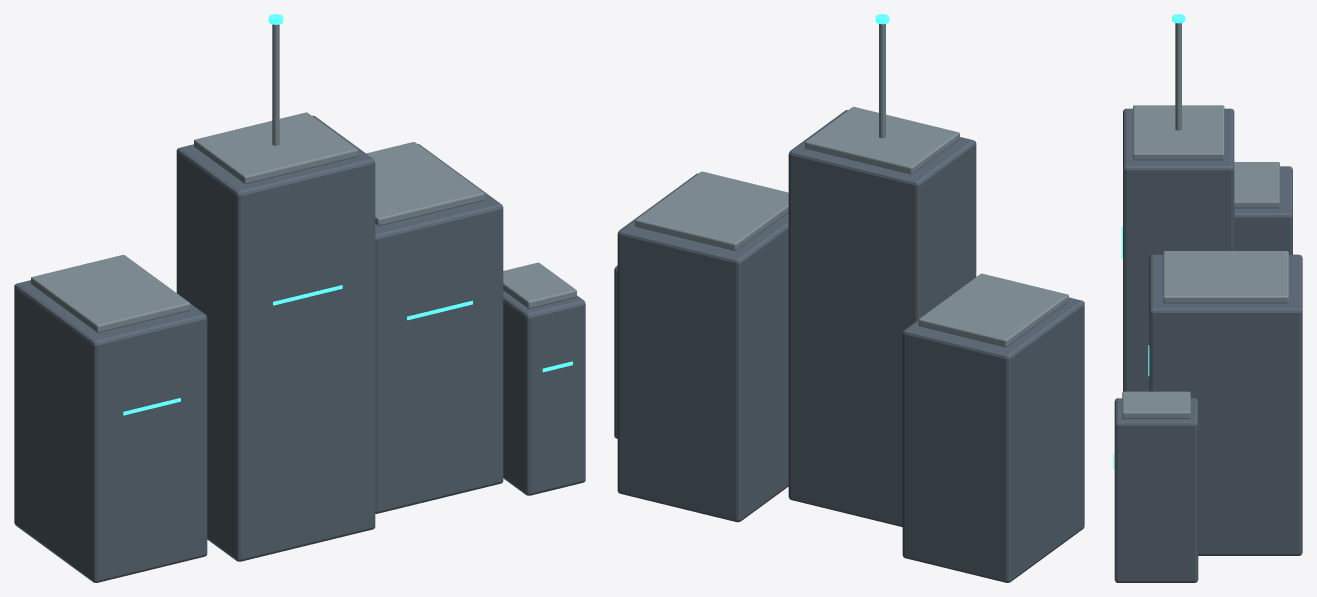
The model's file is distant-facility.glb.
3 views of the same model, side by side, from view 1: azimuth 30°, elevation 25°; view 2: azimuth 150°, elevation 25°; view 3: azimuth 270°, elevation 25° (orthographic). The views are drawn at different scales.
Parts seen in each view (by area): view 1: Visual_Merged_ZA_DistantFacility_Root_Graphite_Paint, Visual_Merged_ZA_DistantFacility_Root_Neutral_Steel, Visual_Merged_ZA_DistantFacility_Root_Zero_Cyan_Emissive; view 2: Visual_Merged_ZA_DistantFacility_Root_Graphite_Paint, Visual_Merged_ZA_DistantFacility_Root_Neutral_Steel; view 3: Visual_Merged_ZA_DistantFacility_Root_Graphite_Paint, Visual_Merged_ZA_DistantFacility_Root_Neutral_Steel, Visual_Merged_ZA_DistantFacility_Root_Zero_Cyan_Emissive.
Boxes of the visible parts, x1,y1,x2,y2 form: Visual_Merged_ZA_DistantFacility_Root_Graphite_Paint: (14, 115, 585, 582); Visual_Merged_ZA_DistantFacility_Root_Neutral_Steel: (31, 24, 576, 332); Visual_Merged_ZA_DistantFacility_Root_Zero_Cyan_Emissive: (123, 14, 572, 415); Visual_Merged_ZA_DistantFacility_Root_Graphite_Paint: (614, 110, 1084, 582); Visual_Merged_ZA_DistantFacility_Root_Neutral_Steel: (635, 24, 1068, 347); Visual_Merged_ZA_DistantFacility_Root_Graphite_Paint: (1114, 108, 1302, 582); Visual_Merged_ZA_DistantFacility_Root_Neutral_Steel: (1122, 23, 1288, 418); Visual_Merged_ZA_DistantFacility_Root_Zero_Cyan_Emissive: (1113, 14, 1185, 469).
Bounding box in the file's own units: 17.4 × 17.79 × 6.8.
